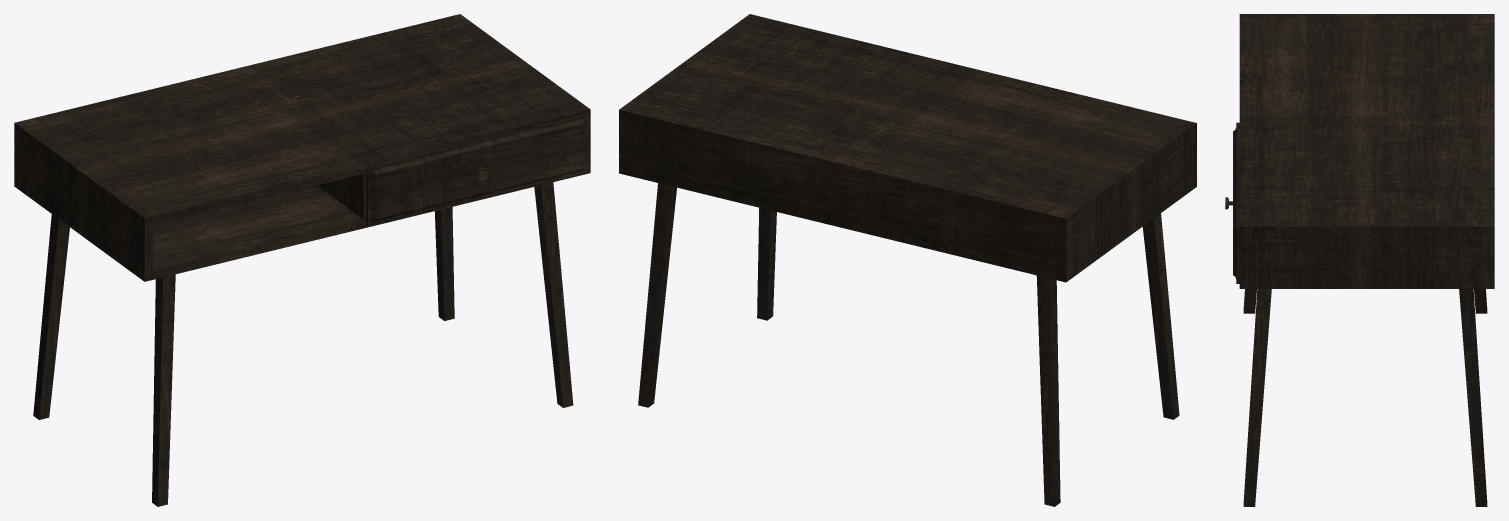
File: tv_table_4_2.obj
The picture shows the model from 3 angles, left to right: view 1: azimuth 30°, elevation 25°; view 2: azimuth 150°, elevation 25°; view 3: azimuth 270°, elevation 25°; orthographic projection. The views are drawn at different scales.
Parts seen in each view (by area): view 1: tv_table_4_2, tv_table_4_2_drawer; view 2: tv_table_4_2; view 3: tv_table_4_2, tv_table_4_2_drawer.
Part boxes in pixels (bbox=[...]): tv_table_4_2: bbox=[14, 14, 590, 506]; tv_table_4_2_drawer: bbox=[366, 113, 587, 225]; tv_table_4_2: bbox=[619, 14, 1196, 506]; tv_table_4_2: bbox=[1239, 14, 1494, 506]; tv_table_4_2_drawer: bbox=[1225, 122, 1239, 283].
Size of the model in its own units: 1.54 by 0.97 by 0.8235.
